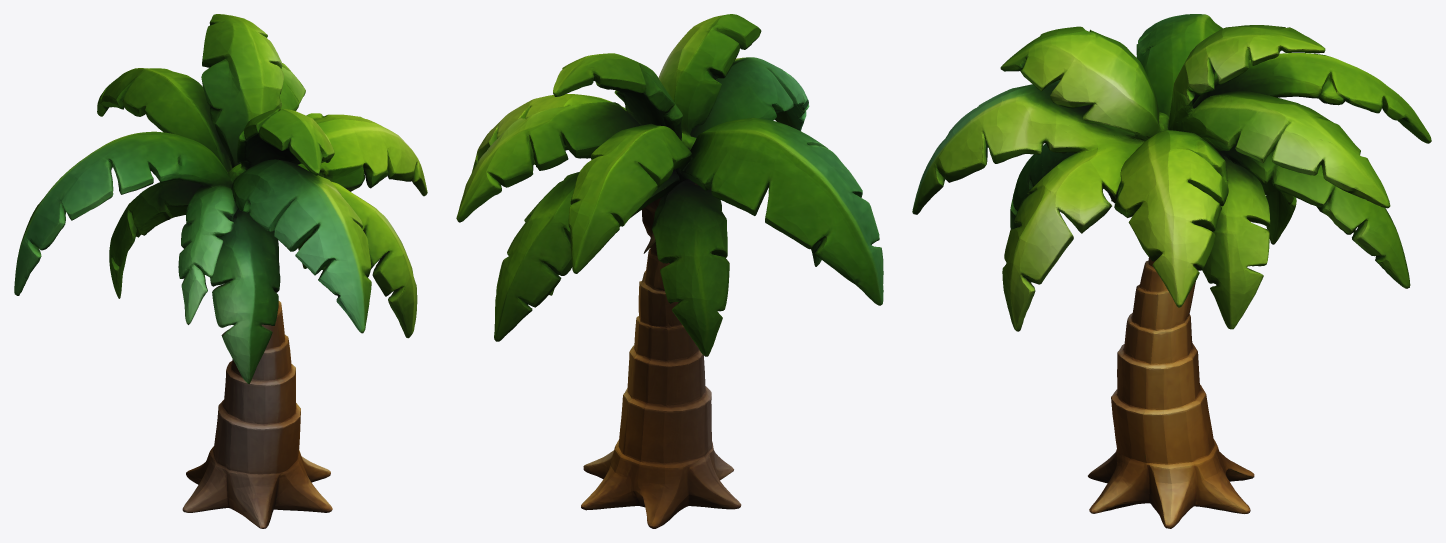
Rendered from Palm_1.glb.
3 views of the same model, side by side, from view 1: azimuth 30°, elevation 25°; view 2: azimuth 150°, elevation 25°; view 3: azimuth 270°, elevation 25° (orthographic). The views are drawn at different scales.
Visible parts, largest first — view 1: world; view 2: world; view 3: world.
Part boxes in pixels (box(x1,y1,x2,y2)): world: box(14, 14, 427, 528); world: box(456, 14, 883, 528); world: box(912, 14, 1431, 528).
Size of the model in its own units: 0.9609 by 0.998 by 0.9878.
1 material, 1 textured.
